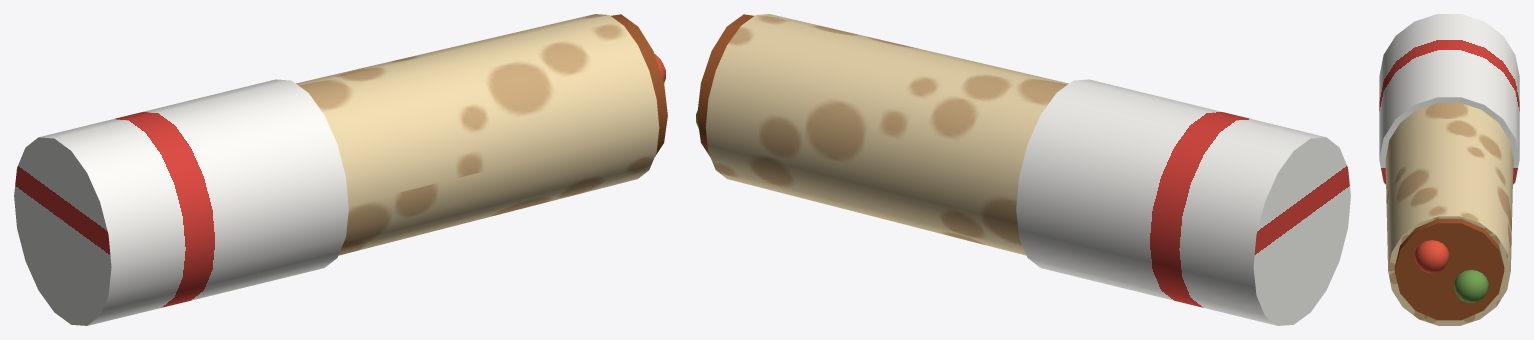
The model's file is durum.glb.
3 views of the same model, side by side, from view 1: azimuth 30°, elevation 25°; view 2: azimuth 150°, elevation 25°; view 3: azimuth 270°, elevation 25° (orthographic). The views are drawn at different scales.
Visible parts, largest first — view 1: durum; view 2: durum; view 3: durum.
Part boxes in pixels (x1,y1,x2,y2): durum: [14, 14, 667, 325]; durum: [696, 14, 1350, 325]; durum: [1379, 14, 1519, 325].
Bounding box in the file's own units: 0.2229 × 0.063 × 0.064.
Materials: 5 (2 with a texture image).
